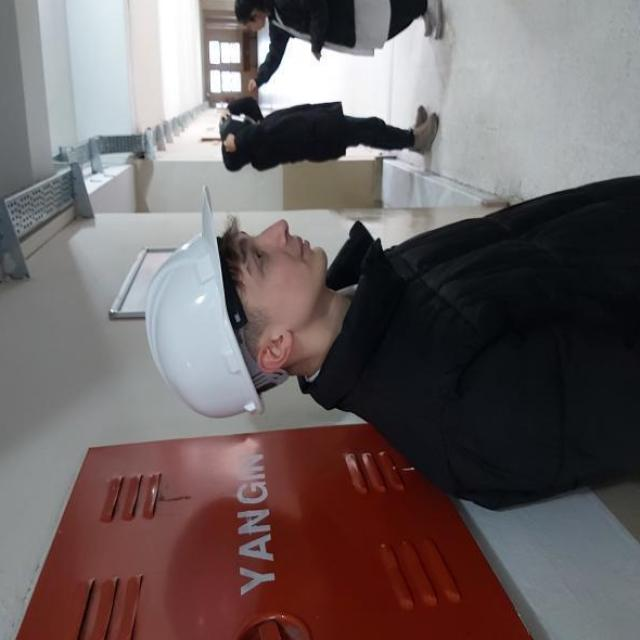helmet: (143, 184, 264, 419)
